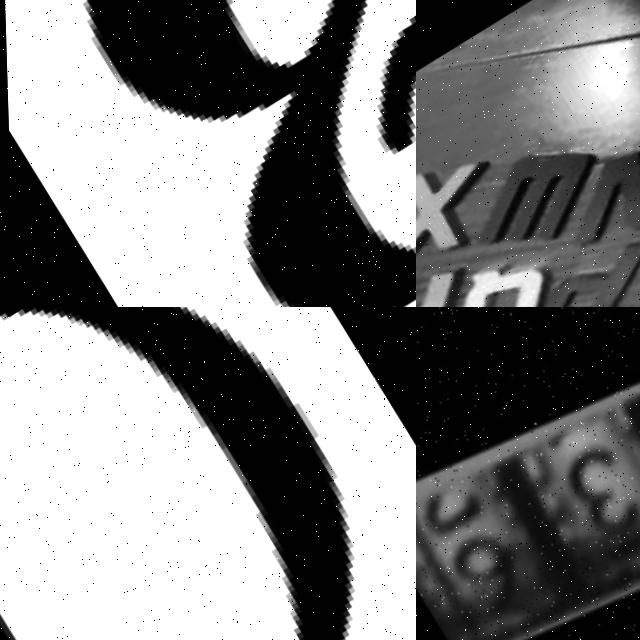0: (0, 307, 416, 640)
3: (0, 0, 416, 307), (541, 427, 640, 572)
6: (424, 510, 556, 640)
P: (527, 228, 640, 307)
Q: (427, 245, 555, 307)
V: (537, 135, 640, 268)
W: (455, 122, 620, 268)
X: (416, 149, 498, 280)
